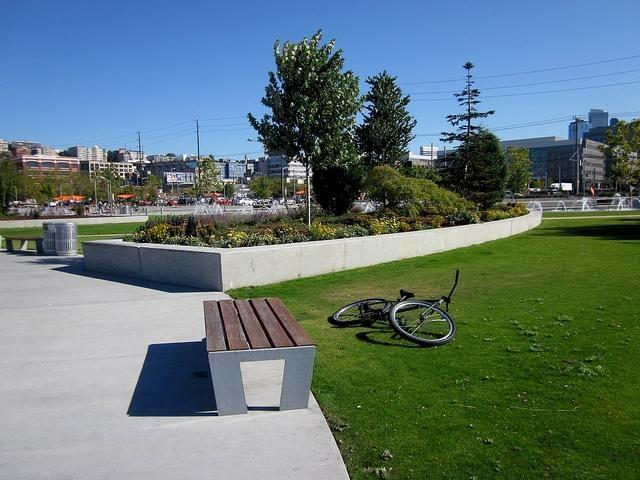bicycle: (330, 270, 461, 347)
